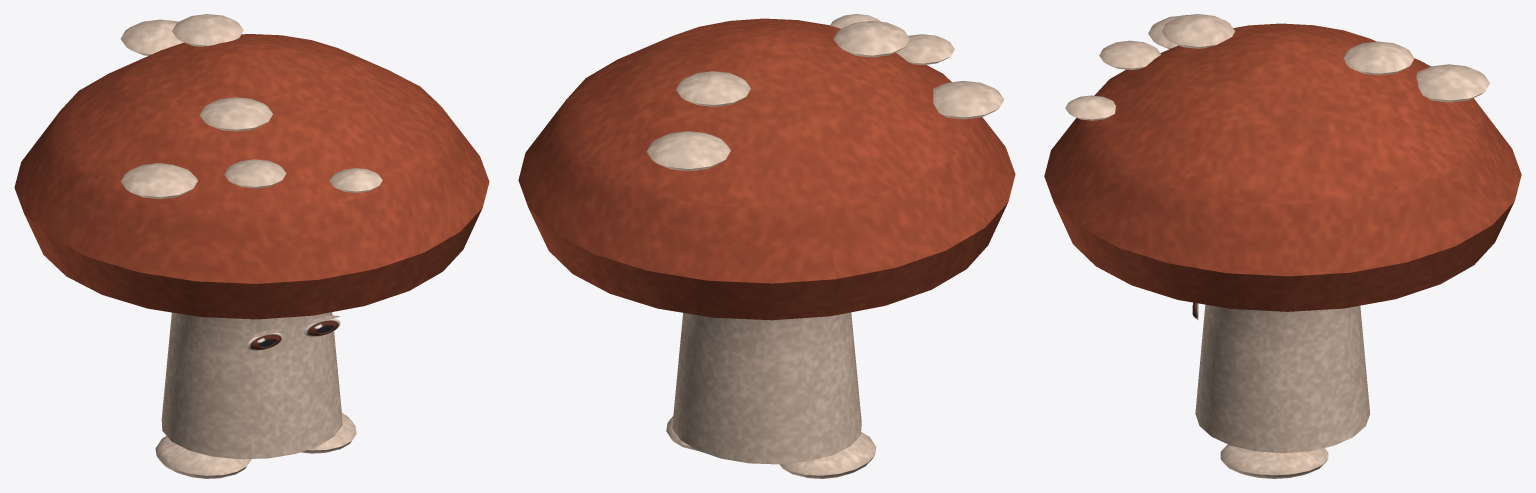
File: sp_kinokko-j3jwr0gy.glb
3 renders of one model, left to right at view 1: azimuth 30°, elevation 25°; view 2: azimuth 150°, elevation 25°; view 3: azimuth 270°, elevation 25°, orthographic. The views are drawn at different scales.
Visible parts, largest first — view 1: Cap, Stem; view 2: Cap, Stem; view 3: Cap, Stem.
Part boxes in pixels (box(x1,y1,x2,y2)): Cap: box(14, 14, 489, 319); Stem: box(155, 312, 356, 478); Cap: box(518, 14, 1015, 320); Stem: box(666, 312, 876, 478); Cap: box(1044, 14, 1521, 311); Stem: box(1192, 302, 1369, 478).
Bounding box in the file's own units: 0.5899 × 0.5521 × 0.5898.
1 material, 1 textured.
